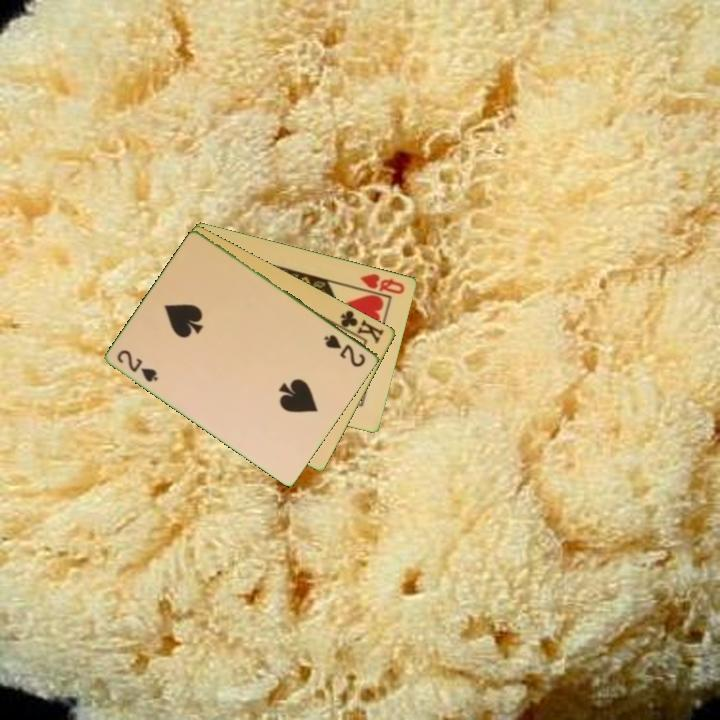2s: (321, 331, 369, 370), (113, 346, 161, 385)
Kc: (331, 306, 387, 346)
Qh: (357, 270, 408, 297)
